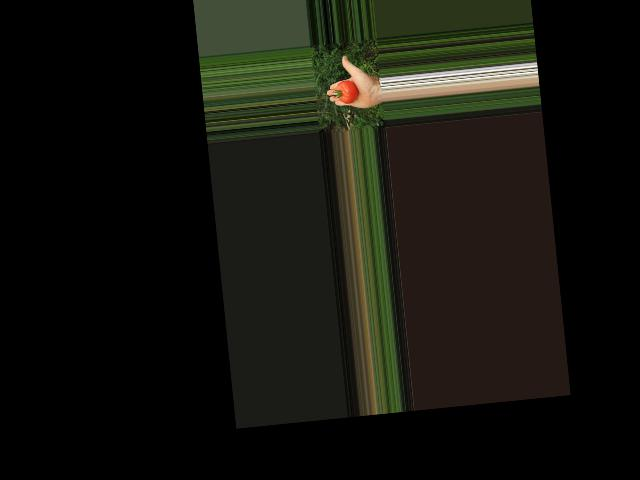tomato: (336, 79, 359, 105)
